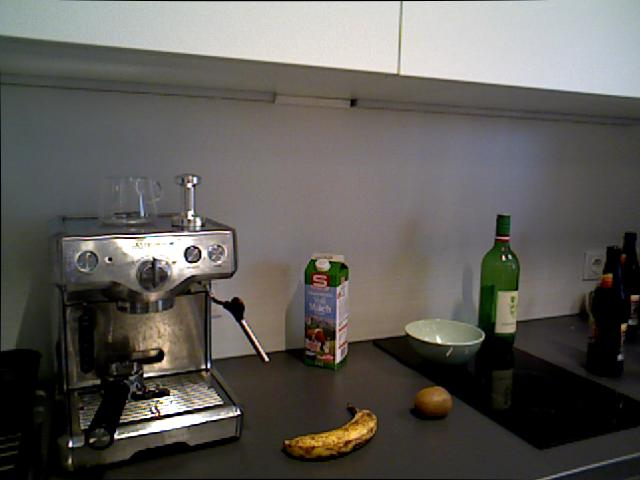bench: (583, 243, 630, 379), (299, 252, 352, 371), (477, 213, 520, 346), (617, 230, 640, 349)
bird: (404, 317, 485, 364)
handbag: (0, 346, 43, 433), (98, 175, 162, 225)
motorcycle: (282, 402, 377, 459)
